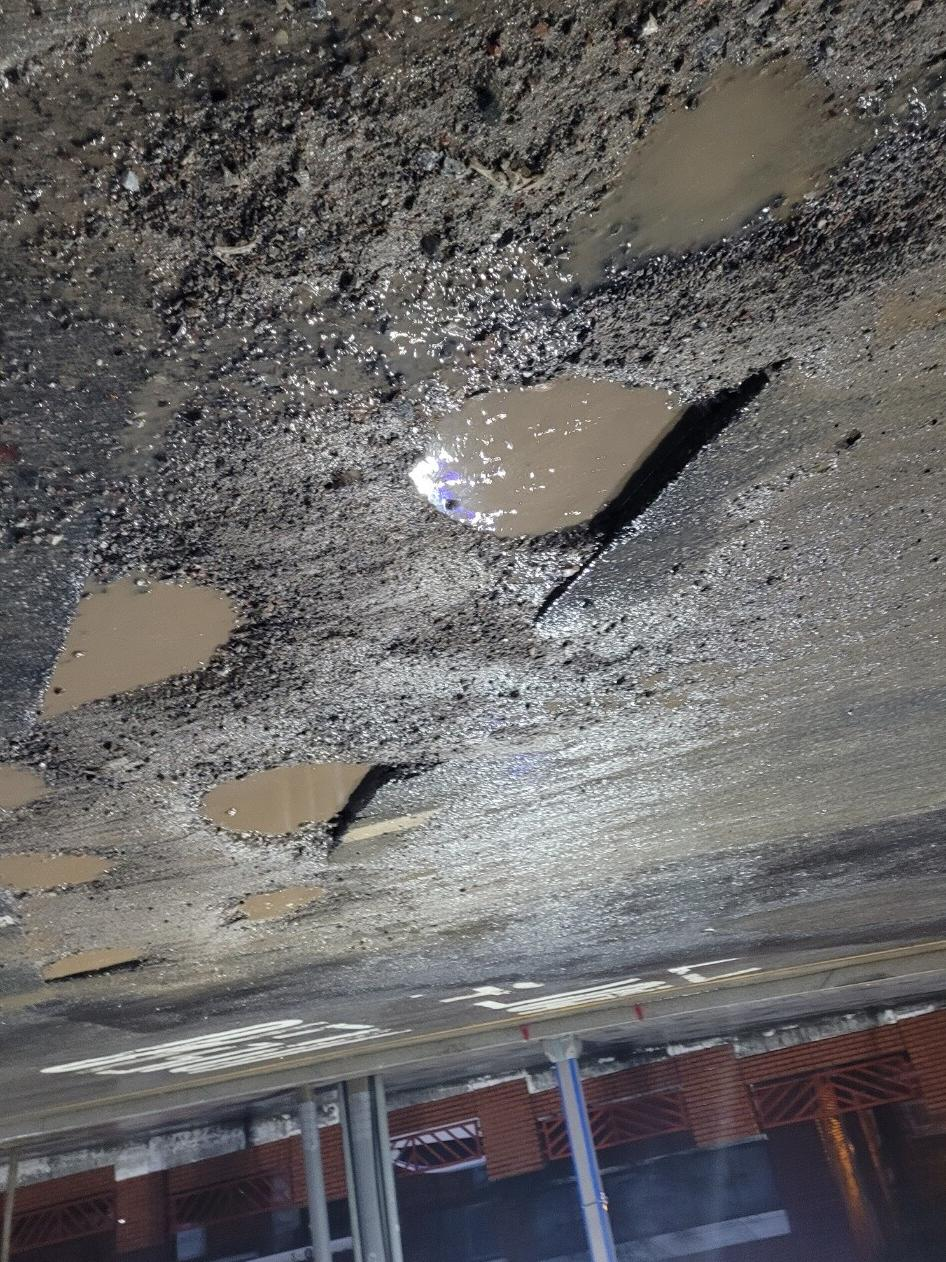pothole: (507, 14, 880, 307), (392, 355, 716, 587), (14, 517, 294, 724), (172, 760, 432, 840), (49, 928, 185, 1020), (0, 834, 131, 911), (209, 866, 340, 939), (0, 731, 75, 815)
